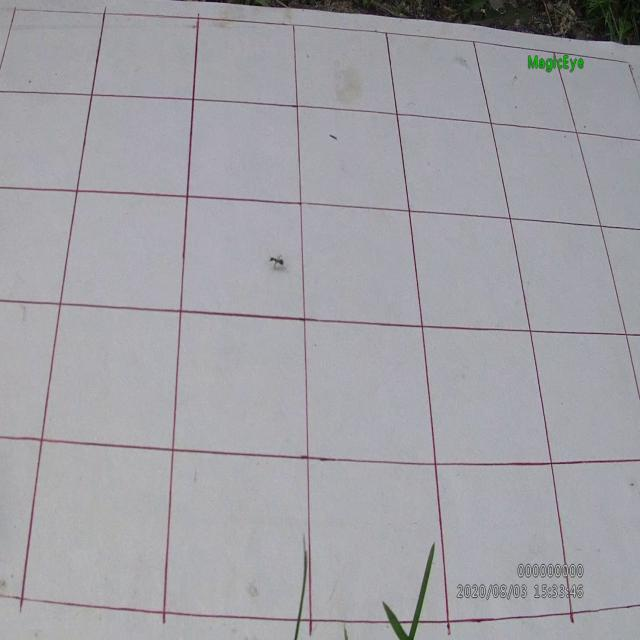Ant: (269, 253, 284, 271)
